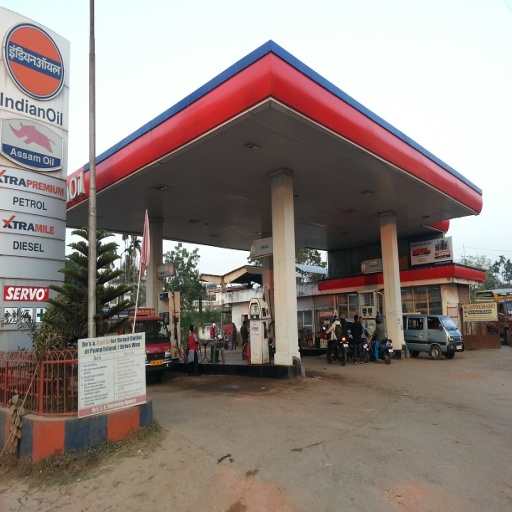roof: (63, 43, 485, 249)
